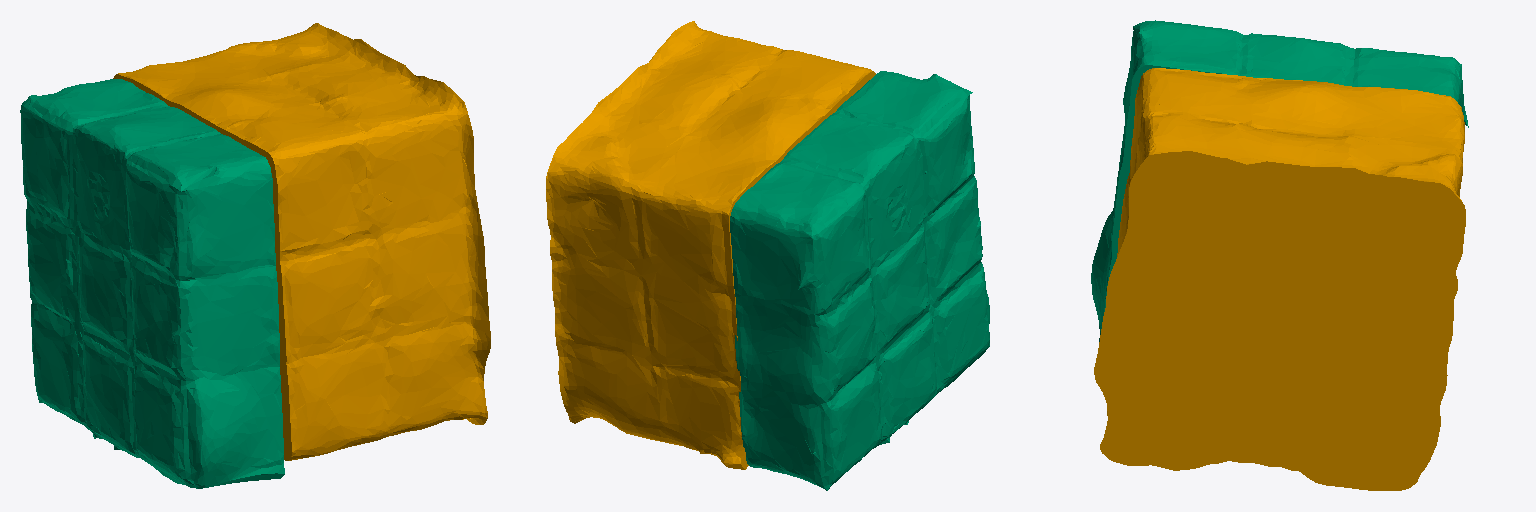
URDF robot description (rubikscube):
<?xml version="1.0"?>
<robot name="rubikscube">
  <link name ="rb0">
    <visual>
      <origin xyz='0.018680 0.025718 -0.060229' rpy='0.008924 -0.461618 -1.583298'/>
      <geometry>
        <mesh filename="package://articulated_objects_db/data/objects/rubikscube/meshes/rc_bottom.obj"  scale="1 1 1" />
      </geometry>
    </visual>
  </link>
  <joint name="j_0_1" type="revolute">
    <parent link="rb0"/>
    <child link="rb1"/>
    <origin xyz="-0.0658622803965 0.0280736111911 -0.0556713249073" rpy="0 0 0 "/>
    <axis xyz="0.997275573438 -0.073219450503 -0.0089634085367"/>
    <limit effort="30" velocity="1.0" lower="-3.1416" upper="3.1416"/>
  </joint>
  <joint name="j_0_fixed" type="fixed">
    <parent link="rb1"/>
    <child link="rb1_marker"/>
      <origin xyz="0.00475312503513 0.0533124339558 0.0347819424706" rpy="-1.60752473544 -0.0484067857433 -1.60653889868"/>
    <limit effort="30" velocity="1.0" lower="-3.1416" upper="3.1416"/>
  </joint>
  <link name ="rb1">
  </link>
  <link name ="rb1_marker">
    <visual>
      <origin xyz='0.062337 0.029539 0.063925' rpy='1.574115 0.040477 -1.985151'/>
      <geometry>
        <mesh filename="package://articulated_objects_db/data/objects/rubikscube/meshes/rc_top.obj"  scale="1 1 1" />
      </geometry>
    </visual>
  </link>
</robot>

--- Facts derived from the render (not from the file) ---
Views: 3 orthographic renders of the robot side by side, from view 1: azimuth 30°, elevation 25°; view 2: azimuth 150°, elevation 25°; view 3: azimuth 270°, elevation 25°.
Model rubikscube with 3 links and 2 joints (1 revolute, 1 fixed), rooted at rb0, posed every joint at zero.
Visible links, largest first — view 1: rb0, rb1_marker; view 2: rb1_marker, rb0; view 3: rb0, rb1_marker.
Boxes of the visible links, x1,y1,x2,y2 form: rb0: [113, 23, 490, 460]; rb1_marker: [20, 79, 284, 488]; rb1_marker: [730, 71, 989, 490]; rb0: [546, 21, 875, 469]; rb0: [1094, 68, 1465, 490]; rb1_marker: [1091, 20, 1468, 341].
Bounding box of the posed robot: 0.0908 × 0.0985 × 0.0983 m (x, y, z).
Meshes: 2 distinct files referenced, 2 mesh visuals loaded (2 OBJ).